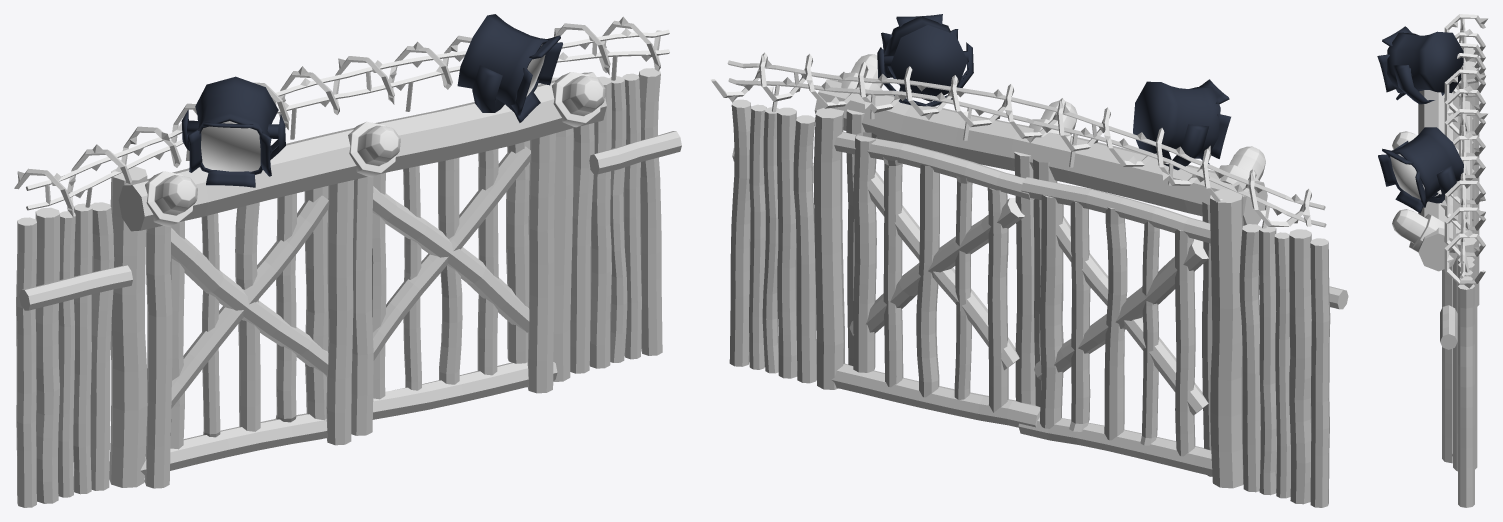
The model's file is gate.fbx.
The picture shows the model from 3 angles, left to right: view 1: azimuth 30°, elevation 25°; view 2: azimuth 150°, elevation 25°; view 3: azimuth 270°, elevation 25°; orthographic projection. The views are drawn at different scales.
Visible parts, largest first — view 1: Cube, Cylinder.001, Cylinder, Cylinder.003, Cylinder.006, Cylinder.005, Cylinder.002; view 2: Cube, Cylinder.001, Cylinder, Cylinder.003, Cylinder.005, Cylinder.006; view 3: Cube, Cylinder.001, Cylinder.003, Cylinder, Cylinder.006, Cylinder.002.
Part boxes in pixels (x1,y1,x2,y2): Cube: [16, 68, 681, 507]; Cylinder.001: [14, 16, 669, 217]; Cylinder: [181, 76, 285, 187]; Cylinder.003: [457, 14, 562, 122]; Cylinder.006: [552, 72, 605, 127]; Cylinder.005: [145, 171, 197, 226]; Cylinder.002: [348, 121, 400, 177]; Cube: [729, 79, 1348, 507]; Cylinder.001: [711, 52, 1326, 228]; Cylinder: [1133, 79, 1230, 170]; Cylinder.003: [877, 14, 973, 106]; Cylinder.005: [1219, 146, 1265, 184]; Cylinder.006: [838, 54, 883, 90]; Cube: [1418, 47, 1479, 507]; Cylinder.001: [1440, 14, 1487, 288]; Cylinder.003: [1378, 127, 1463, 213]; Cylinder: [1377, 26, 1463, 104]; Cylinder.006: [1392, 209, 1444, 252]; Cylinder.002: [1392, 131, 1417, 149].
Size of the model in its own units: 886 by 512 by 166.
